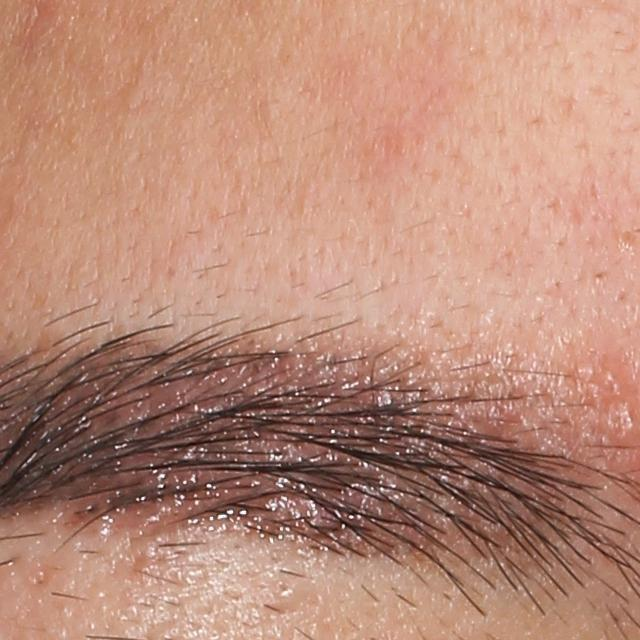comedo: (115, 81, 148, 107), (257, 97, 286, 125)
